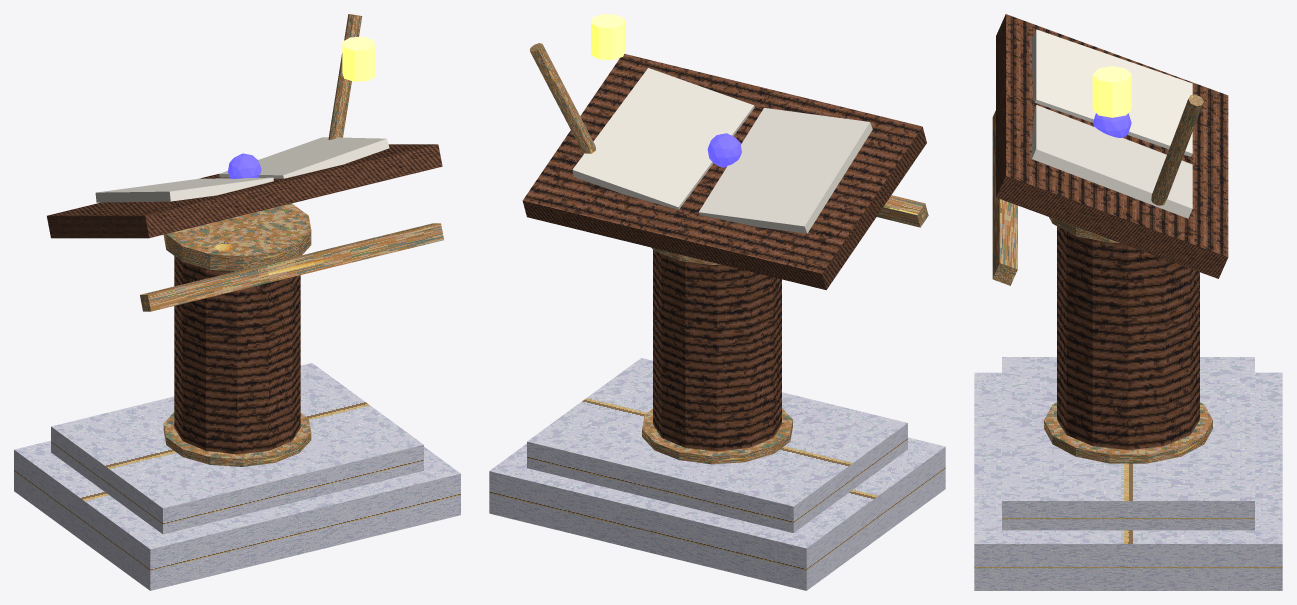
File: atril_biblioteca.glb
3 renders of one model, left to right at view 1: azimuth 30°, elevation 25°; view 2: azimuth 150°, elevation 25°; view 3: azimuth 270°, elevation 25°, orthographic. The views are drawn at different scales.
Parts seen in each view (by area): view 1: Cube.001, Cube, Cylinder, Cube.002, Cylinder.002, Cube.003, Cube.005, Cube.004, Cylinder.001, Cylinder.004, Cylinder.003, Icosphere; view 2: Cube.002, Cube.001, Cube, Cylinder, Cube.005, Cube.004, Cylinder.001, Cylinder.003, Cylinder.004, Cube.003, Icosphere; view 3: Cube.001, Cylinder, Cube, Cube.002, Cube.004, Cube.005, Cylinder.001, Cube.003, Cylinder.004, Cylinder.003, Icosphere, Cylinder.002.
Boxes of the visible parts, bbox=[...] form: Cube.001: bbox=[51, 363, 423, 534]; Cube: bbox=[14, 440, 460, 590]; Cylinder: bbox=[174, 256, 300, 454]; Cube.002: bbox=[47, 144, 442, 238]; Cylinder.002: bbox=[163, 203, 311, 271]; Cube.003: bbox=[140, 223, 443, 311]; Cube.005: bbox=[219, 137, 389, 178]; Cube.004: bbox=[95, 177, 273, 202]; Cylinder.001: bbox=[163, 412, 311, 466]; Cylinder.004: bbox=[342, 36, 375, 81]; Cylinder.003: bbox=[328, 14, 362, 139]; Icosphere: bbox=[228, 153, 261, 178]; Cube.002: bbox=[522, 54, 926, 290]; Cube.001: bbox=[527, 358, 907, 532]; Cube: bbox=[489, 437, 945, 590]; Cylinder: bbox=[653, 250, 781, 451]; Cube.005: bbox=[572, 68, 754, 209]; Cube.004: bbox=[698, 108, 872, 233]; Cylinder.001: bbox=[642, 408, 792, 464]; Cylinder.003: bbox=[530, 43, 595, 154]; Cylinder.004: bbox=[591, 14, 624, 60]; Cube.003: bbox=[877, 195, 928, 227]; Icosphere: bbox=[707, 133, 741, 167]; Cube.001: bbox=[1002, 357, 1254, 530]; Cylinder: bbox=[1057, 226, 1199, 449]; Cube: bbox=[974, 372, 1282, 590]; Cube.002: bbox=[996, 14, 1228, 278]; Cube.004: bbox=[1032, 29, 1192, 156]; Cube.005: bbox=[1032, 105, 1192, 218]; Cylinder.001: bbox=[1044, 402, 1212, 463]; Cube.003: bbox=[992, 110, 1017, 285]; Cylinder.004: bbox=[1092, 66, 1131, 117]; Cylinder.003: bbox=[1151, 94, 1203, 205]; Icosphere: bbox=[1093, 113, 1131, 137]; Cylinder.002: bbox=[1049, 217, 1119, 242].
Size of the model in its own units: 1.25 by 1.68 by 0.95.
6 materials, 3 textured.
